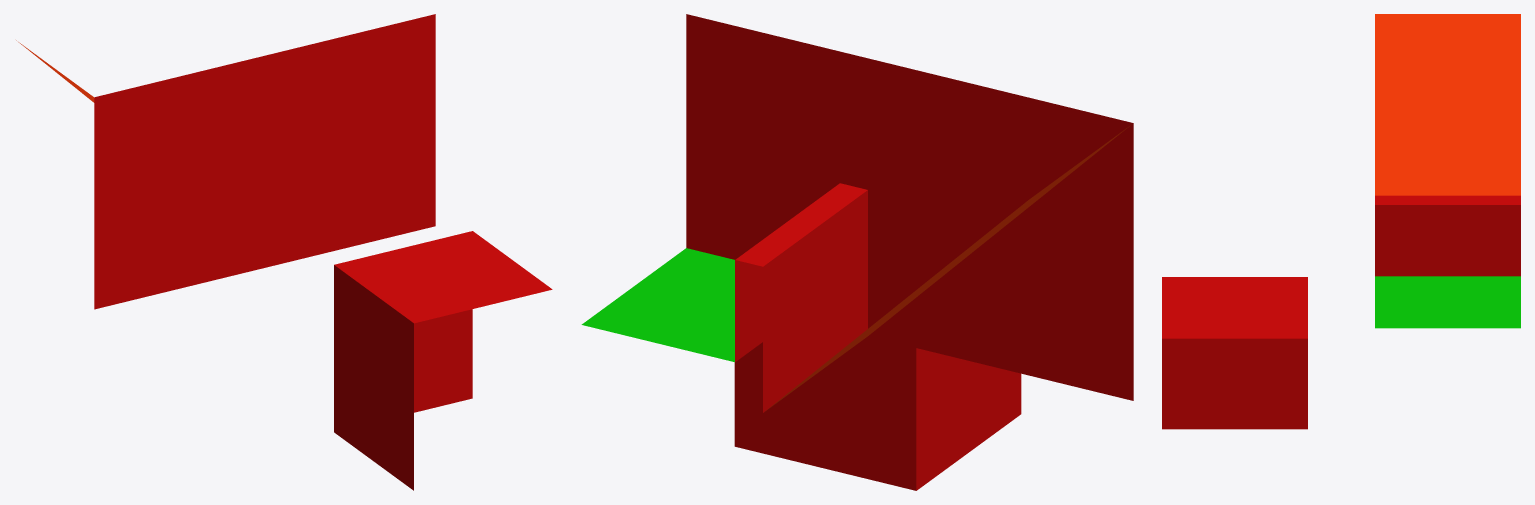
3 renders of one model, left to right at view 1: azimuth 30°, elevation 25°; view 2: azimuth 150°, elevation 25°; view 3: azimuth 270°, elevation 25°, orthographic. The views are drawn at different scales.
Parts seen in each view (by area): view 1: None_W_E_E_A_S_A_E_A_None; view 2: None_W_E_E_A_S_A_E_A_None; view 3: None_W_E_E_A_S_A_E_A_None.
Part boxes in pixels (<box>): None_W_E_E_A_S_A_E_A_None: <box>16,14,552,490</box>; None_W_E_E_A_S_A_E_A_None: <box>581,14,1133,490</box>; None_W_E_E_A_S_A_E_A_None: <box>1162,14,1520,429</box>.
Size of the model in its own units: 100 by 100 by 100.
